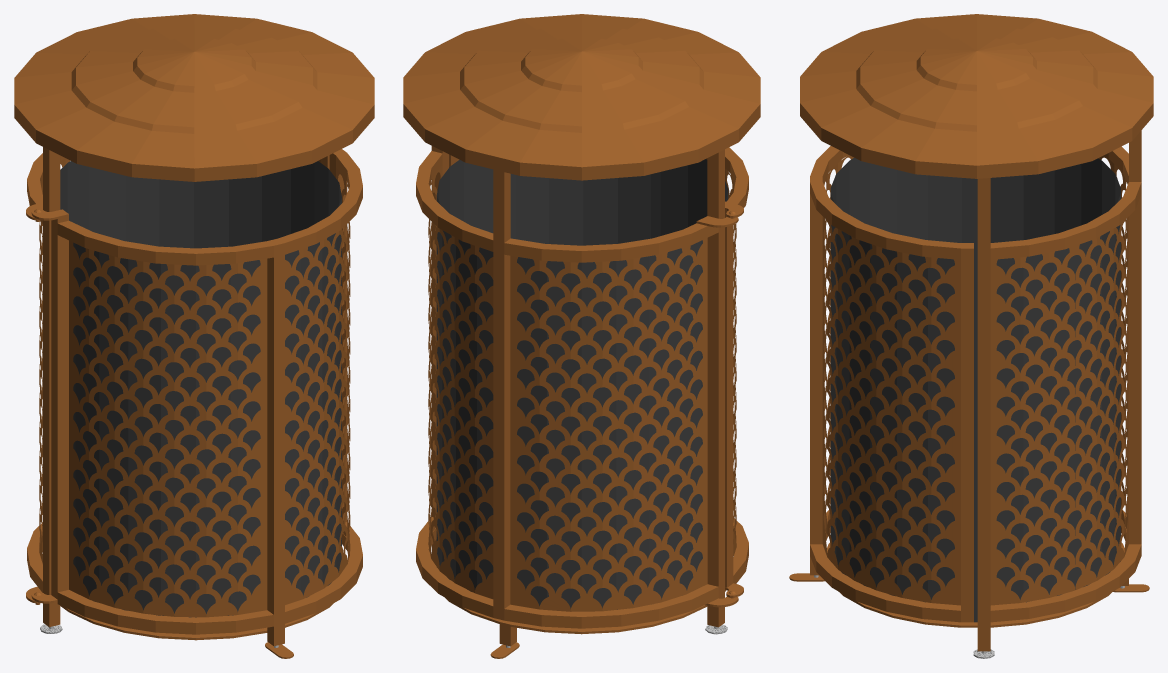
The picture shows the model from 3 angles, left to right: view 1: azimuth 30°, elevation 25°; view 2: azimuth 150°, elevation 25°; view 3: azimuth 270°, elevation 25°; orthographic projection.
Visible parts, largest first — view 1: mesh7.001_mesh7-geometry, mesh25.001_mesh25-geometry, mesh1.004_mesh1-geometry, mesh10.001_mesh10-geometry, mesh8.002_mesh8-geometry, mesh2.010_mesh2-geometry, mesh5.002_mesh5-geometry, mesh2.006_mesh2-geometry, mesh2.009_mesh2-geometry, mesh8.001_mesh8-geometry, mesh2.008_mesh2-geometry, mesh2.007_mesh2-geometry (+14 smaller); view 2: mesh7.001_mesh7-geometry, mesh25.001_mesh25-geometry, mesh38.002_mesh38-geometry, mesh3.003_mesh3-geometry, mesh4.010_mesh4-geometry, mesh5.001_mesh5-geometry, mesh4.006_mesh4-geometry, mesh12.001_mesh12-geometry, mesh4.009_mesh4-geometry, mesh12.002_mesh12-geometry, mesh4.008_mesh4-geometry, mesh1.003_mesh1-geometry (+16 smaller); view 3: mesh7.001_mesh7-geometry, mesh25.001_mesh25-geometry, mesh3.001_mesh3-geometry, mesh1.002_mesh1-geometry, mesh38.001_mesh38-geometry, mesh4.002_mesh4-geometry, mesh2.002_mesh2-geometry, mesh4.003_mesh4-geometry, mesh2.003_mesh2-geometry, mesh23.001_mesh23-geometry, mesh4.004_mesh4-geometry, mesh5.001_mesh5-geometry (+15 smaller).
Part boxes in pixels (x1,y1,x2,y2): mesh7.001_mesh7-geometry: [60, 161, 341, 617]; mesh25.001_mesh25-geometry: [14, 14, 374, 181]; mesh1.004_mesh1-geometry: [238, 258, 267, 614]; mesh10.001_mesh10-geometry: [51, 216, 68, 599]; mesh8.002_mesh8-geometry: [57, 153, 362, 265]; mesh2.010_mesh2-geometry: [174, 264, 206, 617]; mesh5.002_mesh5-geometry: [267, 255, 284, 614]; mesh2.006_mesh2-geometry: [206, 263, 237, 617]; mesh2.009_mesh2-geometry: [143, 261, 174, 616]; mesh8.001_mesh8-geometry: [57, 522, 362, 634]; mesh2.008_mesh2-geometry: [114, 256, 143, 613]; mesh2.007_mesh2-geometry: [89, 249, 114, 607]; mesh7.001_mesh7-geometry: [436, 159, 728, 609]; mesh25.001_mesh25-geometry: [403, 14, 760, 180]; mesh38.002_mesh38-geometry: [707, 149, 724, 627]; mesh3.003_mesh3-geometry: [510, 255, 539, 609]; mesh4.010_mesh4-geometry: [570, 261, 602, 611]; mesh5.001_mesh5-geometry: [493, 252, 510, 608]; mesh4.006_mesh4-geometry: [539, 260, 570, 611]; mesh12.001_mesh12-geometry: [416, 151, 718, 262]; mesh4.009_mesh4-geometry: [602, 259, 633, 611]; mesh12.002_mesh12-geometry: [416, 517, 718, 628]; mesh4.008_mesh4-geometry: [633, 254, 661, 607]; mesh1.003_mesh1-geometry: [687, 238, 707, 593]; mesh7.001_mesh7-geometry: [830, 158, 1120, 622]; mesh25.001_mesh25-geometry: [800, 14, 1153, 178]; mesh3.001_mesh3-geometry: [990, 257, 1020, 605]; mesh1.002_mesh1-geometry: [931, 257, 960, 605]; mesh38.001_mesh38-geometry: [977, 178, 990, 651]; mesh4.002_mesh4-geometry: [902, 252, 931, 602]; mesh2.002_mesh2-geometry: [1020, 252, 1049, 602]; mesh4.003_mesh4-geometry: [876, 246, 902, 597]; mesh2.003_mesh2-geometry: [1049, 246, 1075, 597]; mesh23.001_mesh23-geometry: [961, 243, 973, 622]; mesh4.004_mesh4-geometry: [854, 238, 876, 589]; mesh5.001_mesh5-geometry: [1129, 194, 1141, 544].
Size of the model in its own units: 0.4611 by 0.7563 by 0.4642.
